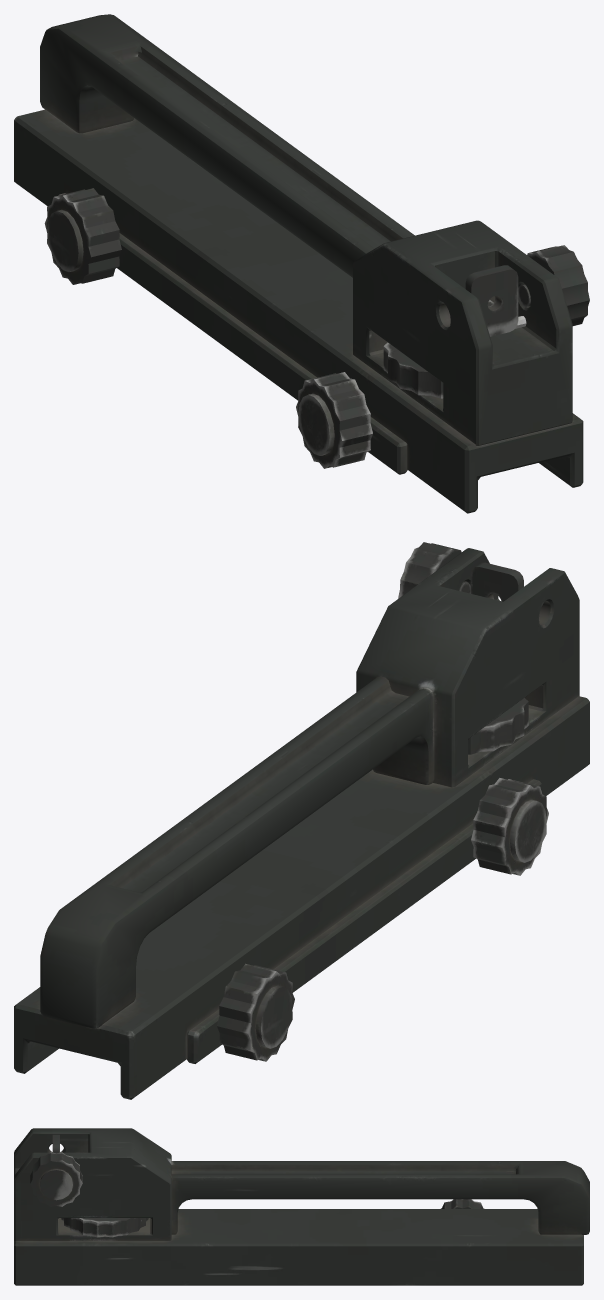
The model's file is alca_transporte_m4.glb.
3 renders of one model, top to bottom at view 1: azimuth 30°, elevation 25°; view 2: azimuth 150°, elevation 25°; view 3: azimuth 270°, elevation 25°, orthographic. The views are drawn at different scales.
Visible parts, largest first — view 1: alca_transporte_m4_alca_transporte, alca_transporte_m4, alca_transporte_m4_alca_mira, alca_transporte_m4_botao_deriva, alca_transporte_m4_tambor_elevacao; view 2: alca_transporte_m4_alca_transporte, alca_transporte_m4, alca_transporte_m4_tambor_elevacao, alca_transporte_m4_botao_deriva, alca_transporte_m4_alca_mira; view 3: alca_transporte_m4_alca_transporte, alca_transporte_m4_botao_deriva, alca_transporte_m4_tambor_elevacao, alca_transporte_m4.
Boxes of the visible parts, x1,y1,x2,y2 form: alca_transporte_m4_alca_transporte: (14, 14, 583, 513); alca_transporte_m4: (44, 188, 372, 468); alca_transporte_m4_alca_mira: (465, 265, 526, 336); alca_transporte_m4_botao_deriva: (518, 245, 589, 325); alca_transporte_m4_tambor_elevacao: (383, 342, 443, 398); alca_transporte_m4_alca_transporte: (14, 548, 589, 1099); alca_transporte_m4: (217, 778, 548, 1061); alca_transporte_m4_tambor_elevacao: (468, 698, 528, 754); alca_transporte_m4_botao_deriva: (398, 542, 470, 598); alca_transporte_m4_alca_mira: (470, 562, 523, 601); alca_transporte_m4_alca_transporte: (14, 1128, 589, 1285); alca_transporte_m4_botao_deriva: (30, 1152, 82, 1206); alca_transporte_m4_tambor_elevacao: (61, 1218, 148, 1237); alca_transporte_m4: (441, 1199, 484, 1208).
Size of the model in its own units: 0.0446 by 0.0517 by 0.19.
1 material, 1 textured.
